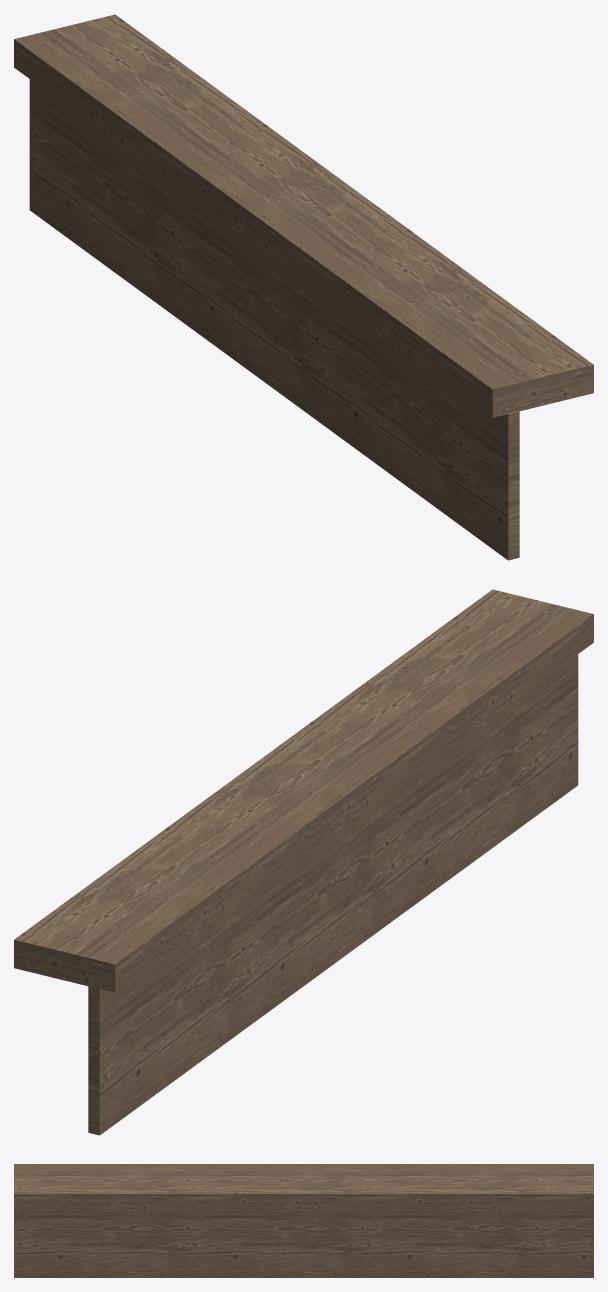
The model's file is OU_AR_Tavern_Bar_Table_02_D.fbx.
3 views of the same model, one above another, from view 1: azimuth 30°, elevation 25°; view 2: azimuth 150°, elevation 25°; view 3: azimuth 270°, elevation 25° (orthographic). The views are drawn at different scales.
Parts seen in each view (by area): view 1: Box1653; view 2: Box1653; view 3: Box1653.
Part boxes in pixels (box(x1,y1,x2,y2)): Box1653: box(14, 14, 593, 560); Box1653: box(14, 589, 593, 1135); Box1653: box(14, 1164, 593, 1277).
Bounding box in the file's own units: 60.93 × 100 × 499.
Materials: 1 (1 with a texture image).
